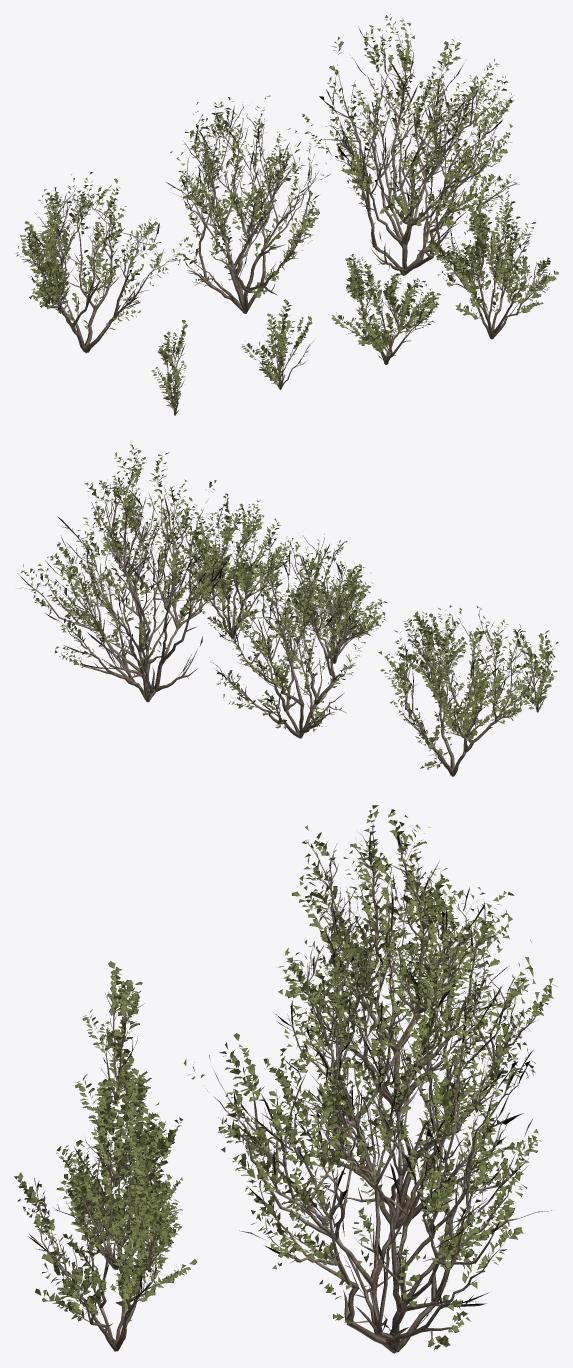
Rendered from searsia_lucida.glb.
The picture shows the model from 3 angles, top to bottom: view 1: azimuth 30°, elevation 25°; view 2: azimuth 150°, elevation 25°; view 3: azimuth 270°, elevation 25°; orthographic projection. The views are drawn at different scales.
Parts seen in each view (by area): view 1: searsia_lucida_a_LOD0, searsia_lucida_b_LOD0, searsia_lucida_c_LOD0, searsia_lucida_d_LOD0, searsia_lucida_e_LOD0, searsia_lucida_f_LOD0, searsia_lucida_g_LOD0; view 2: searsia_lucida_a_LOD0, searsia_lucida_b_LOD0, searsia_lucida_c_LOD0, searsia_lucida_d_LOD0, searsia_lucida_e_LOD0, searsia_lucida_f_LOD0, searsia_lucida_g_LOD0; view 3: searsia_lucida_a_LOD0, searsia_lucida_b_LOD0, searsia_lucida_c_LOD0, searsia_lucida_d_LOD0, searsia_lucida_e_LOD0, searsia_lucida_g_LOD0, searsia_lucida_f_LOD0.
Part boxes in pixels (x1=…): searsia_lucida_a_LOD0: x1=302, y1=14, x2=519, y2=275; searsia_lucida_b_LOD0: x1=166, y1=95, x2=330, y2=313; searsia_lucida_c_LOD0: x1=14, y1=172, x2=190, y2=353; searsia_lucida_d_LOD0: x1=424, y1=176, x2=558, y2=339; searsia_lucida_e_LOD0: x1=331, y1=254, x2=440, y2=364; searsia_lucida_f_LOD0: x1=241, y1=299, x2=313, y2=389; searsia_lucida_g_LOD0: x1=151, y1=320, x2=187, y2=415; searsia_lucida_a_LOD0: x1=17, y1=444, x2=269, y2=702; searsia_lucida_b_LOD0: x1=207, y1=534, x2=374, y2=738; searsia_lucida_c_LOD0: x1=378, y1=605, x2=558, y2=776; searsia_lucida_d_LOD0: x1=172, y1=493, x2=294, y2=638; searsia_lucida_e_LOD0: x1=280, y1=564, x2=387, y2=663; searsia_lucida_f_LOD0: x1=403, y1=611, x2=467, y2=686; searsia_lucida_g_LOD0: x1=513, y1=629, x2=557, y2=712; searsia_lucida_a_LOD0: x1=184, y1=948, x2=551, y2=1353; searsia_lucida_b_LOD0: x1=273, y1=874, x2=557, y2=1229; searsia_lucida_c_LOD0: x1=278, y1=805, x2=513, y2=1107; searsia_lucida_d_LOD0: x1=14, y1=1101, x2=196, y2=1351; searsia_lucida_e_LOD0: x1=54, y1=1064, x2=182, y2=1269; searsia_lucida_g_LOD0: x1=82, y1=961, x2=144, y2=1103; searsia_lucida_f_LOD0: x1=75, y1=1071, x2=165, y2=1186.
Bounding box in the file's own units: 4.76 × 2.32 × 2.83.
Materials: 2 (2 with a texture image).
